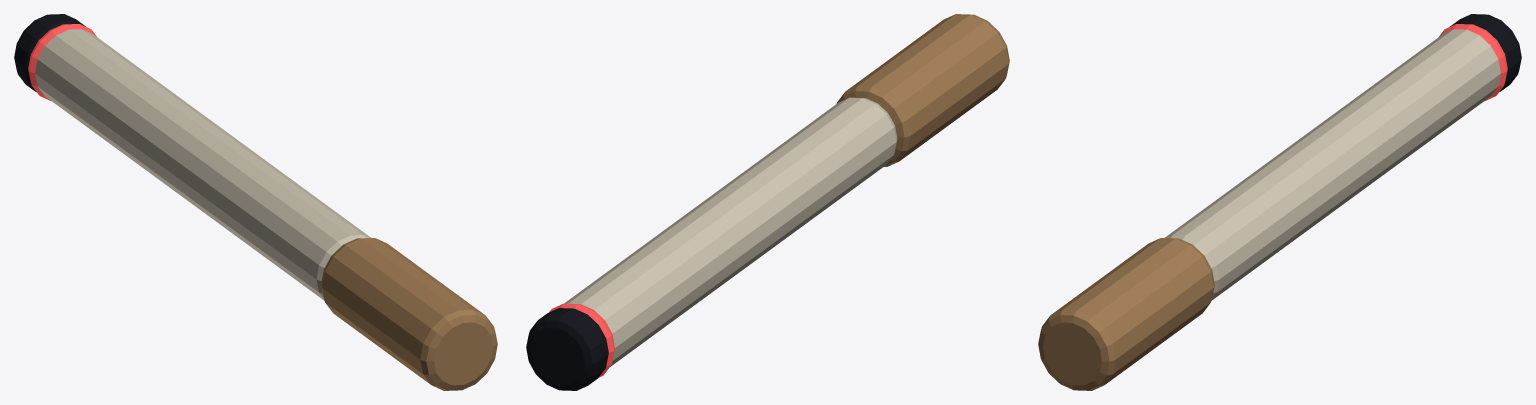
The model's file is cigarette.glb.
3 renders of one model, left to right at view 1: azimuth 30°, elevation 25°; view 2: azimuth 150°, elevation 25°; view 3: azimuth 330°, elevation 25°, orthographic.
Parts seen in each view (by area): view 1: cigarette; view 2: cigarette; view 3: cigarette.
Part boxes in pixels (x1,y1,x2,y2): cigarette: [14, 14, 497, 390]; cigarette: [526, 14, 1009, 390]; cigarette: [1038, 14, 1521, 390].
Size of the model in its own units: 0.009 by 0.009 by 0.085.
